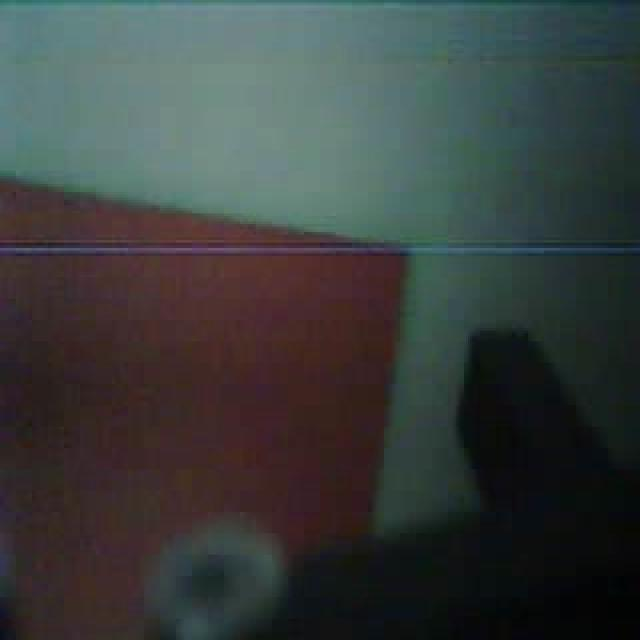red_box: (2, 173, 400, 640)
